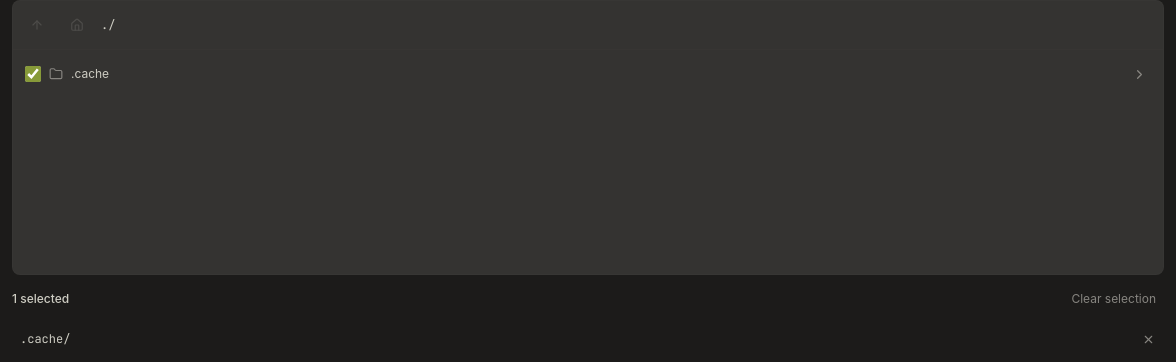
Git ignore exception browsing › keeps selections relative to a symlink root and leaves ignored and hidden files visible
Click the button named "Open folder .cache".
click(1139, 74)  # box left=1119, top=54, right=1159, bottom=94
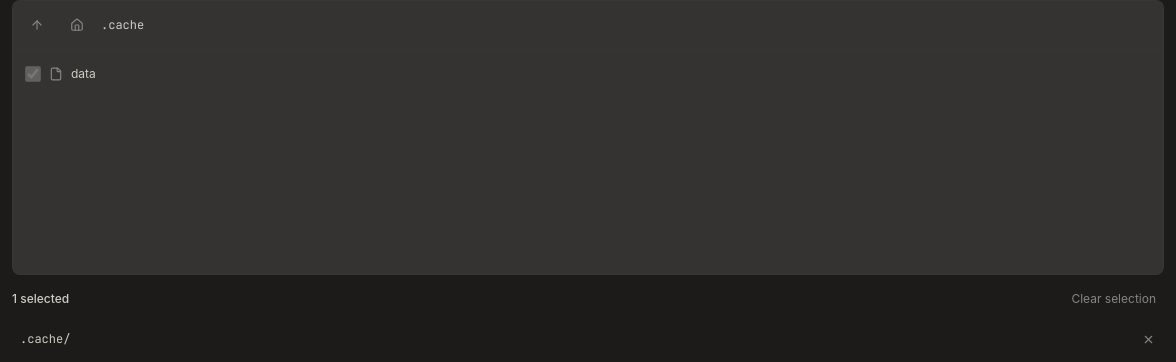
Expected: the checkbox labelled "data" is checked, left=25, top=66, right=41, bottom=82
Result: the checkbox labelled "data" is disabled at left=25, top=66, right=41, bottom=82
